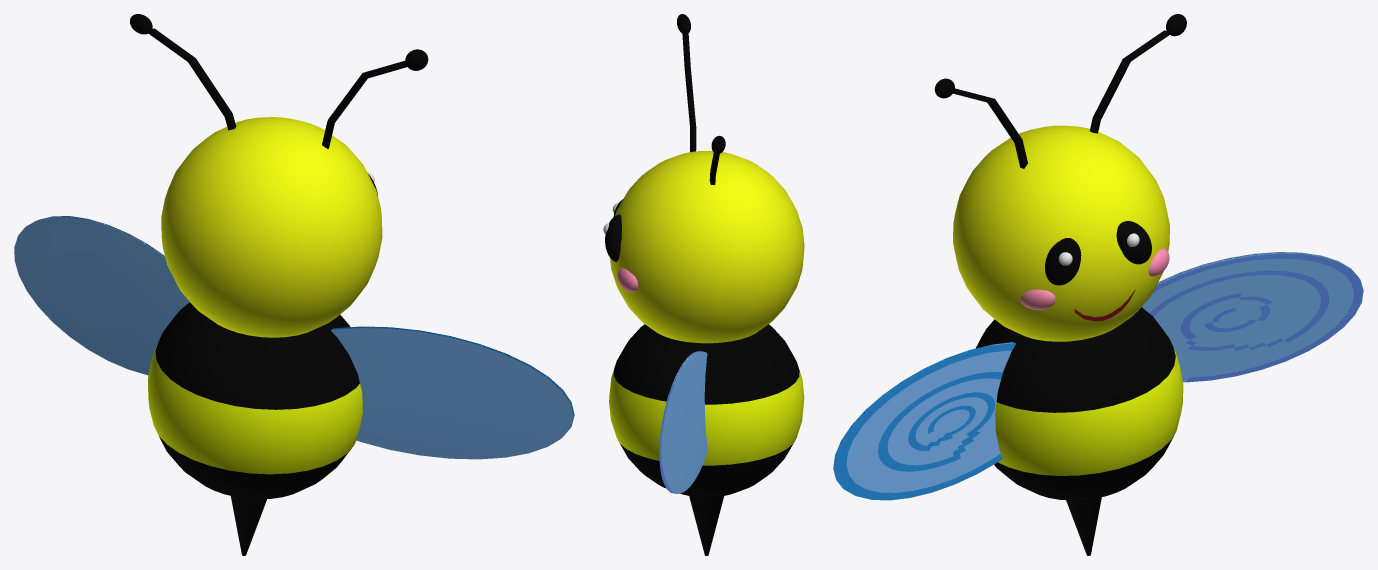
File: bee.glb
The picture shows the model from 3 angles, left to right: view 1: azimuth 30°, elevation 25°; view 2: azimuth 150°, elevation 25°; view 3: azimuth 270°, elevation 25°; orthographic projection. The views are drawn at different scales.
Parts seen in each view (by area): view 1: Sphere.001, Sphere, Cylinder.001, Cylinder, Plane.004, Plane.001; view 2: Sphere.001, Sphere, Cylinder, Plane.001, Sphere.003, Plane.004, Sphere.007; view 3: Sphere.001, Sphere, Cylinder, Cylinder.001, Plane.004, Plane.001, Sphere.002, Sphere.003.
Boxes of the visible parts, left/top/right/bottom form: Sphere.001: left=161, top=117, right=382, bottom=337; Sphere: left=148, top=302, right=362, bottom=555; Cylinder.001: left=331, top=326, right=574, bottom=459; Cylinder: left=14, top=216, right=189, bottom=375; Plane.004: left=130, top=14, right=236, bottom=130; Plane.001: left=322, top=49, right=428, bottom=148; Sphere.001: left=610, top=151, right=804, bottom=343; Sphere: left=609, top=324, right=804, bottom=555; Cylinder: left=659, top=351, right=707, bottom=493; Plane.001: left=677, top=14, right=696, bottom=151; Sphere.003: left=605, top=214, right=621, bottom=261; Plane.004: left=709, top=135, right=725, bottom=184; Sphere.007: left=617, top=268, right=638, bottom=292; Sphere.001: left=953, top=125, right=1169, bottom=341; Sphere: left=976, top=307, right=1183, bottom=555; Cylinder: left=1142, top=252, right=1363, bottom=382; Cylinder.001: left=833, top=342, right=1016, bottom=500; Plane.004: left=1089, top=14, right=1186, bottom=133; Plane.001: left=934, top=78, right=1027, bottom=168; Sphere.002: left=1045, top=238, right=1081, bottom=285; Sphere.003: left=1116, top=221, right=1151, bottom=264.
Size of the model in its own units: 3.04 by 5.31 by 4.87.
